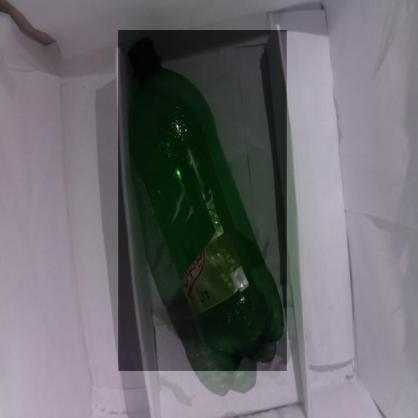bottle: (118, 30, 287, 371)
